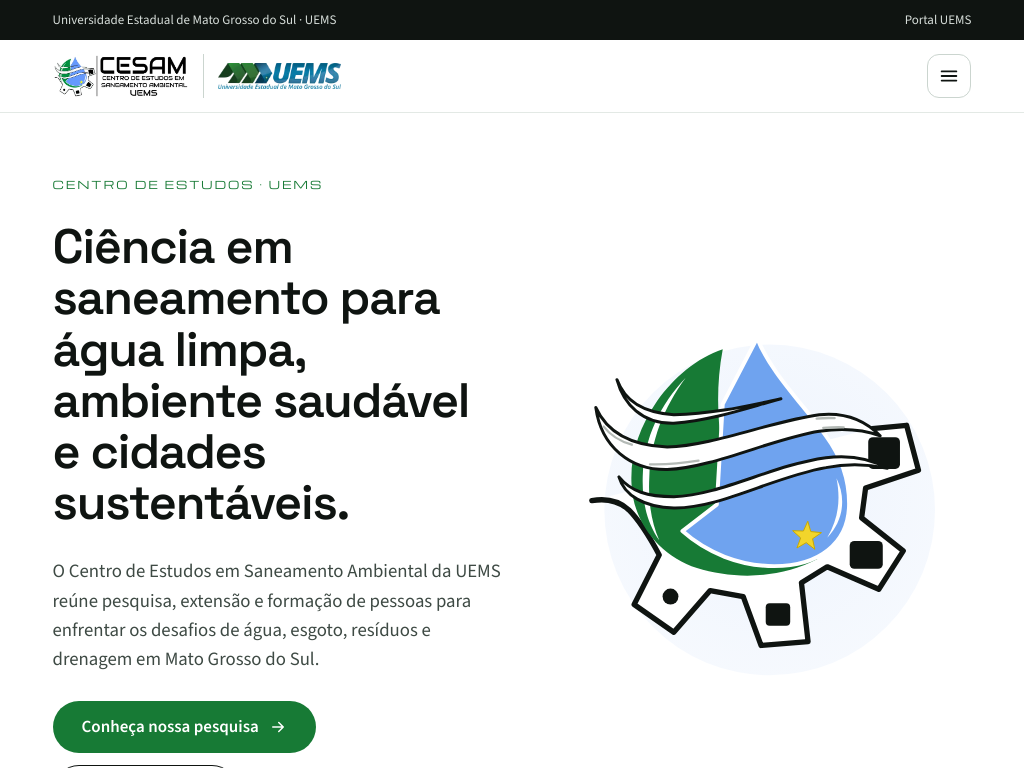
Test case: Menu mobile › alterna aria-expanded e fecha com Esc devolvendo o foco
The width and height of the screenshot is (1024, 768).
Click the button named "Abrir menu" at {"x": 950, "y": 76}, box x1=928 y1=54 x2=972 y2=98
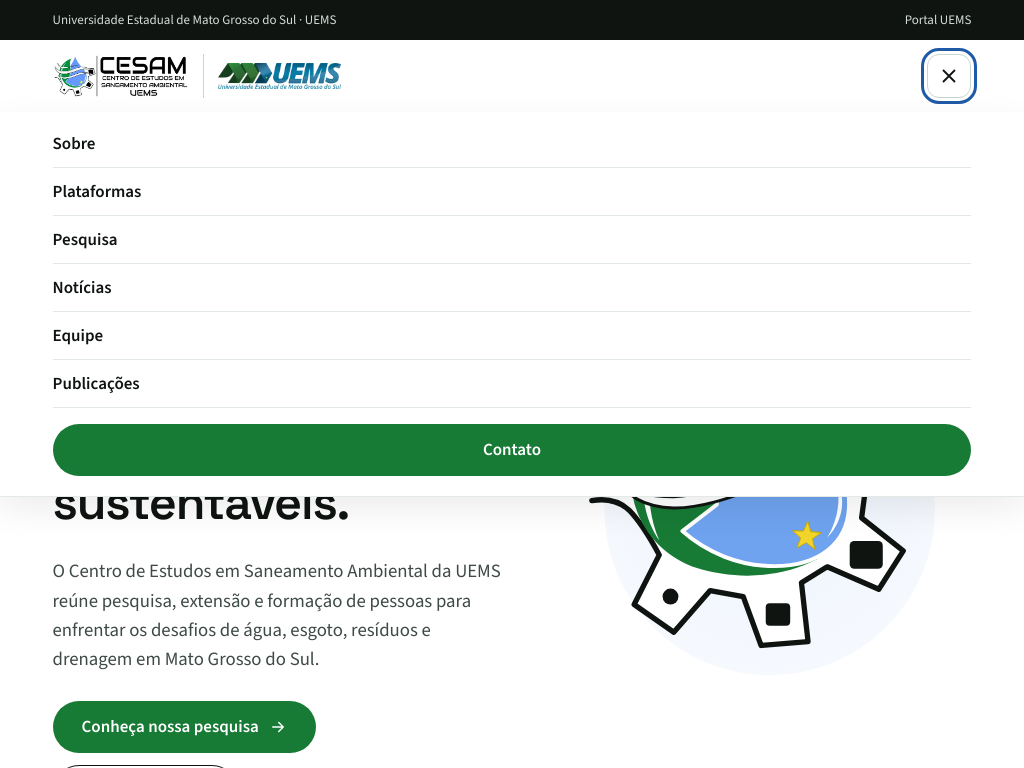
Result: the button named "Abrir menu" is expanded at x1=928 y1=54 x2=972 y2=98
Press Escape
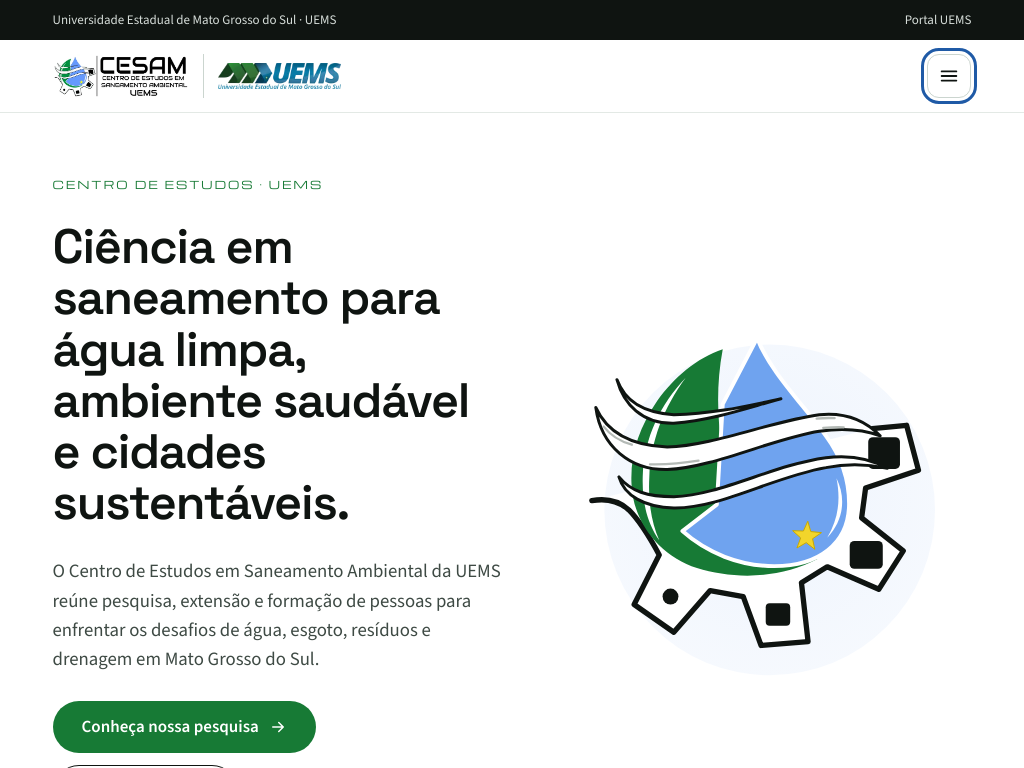
Result: the button named "Abrir menu" is collapsed at x1=928 y1=54 x2=972 y2=98
